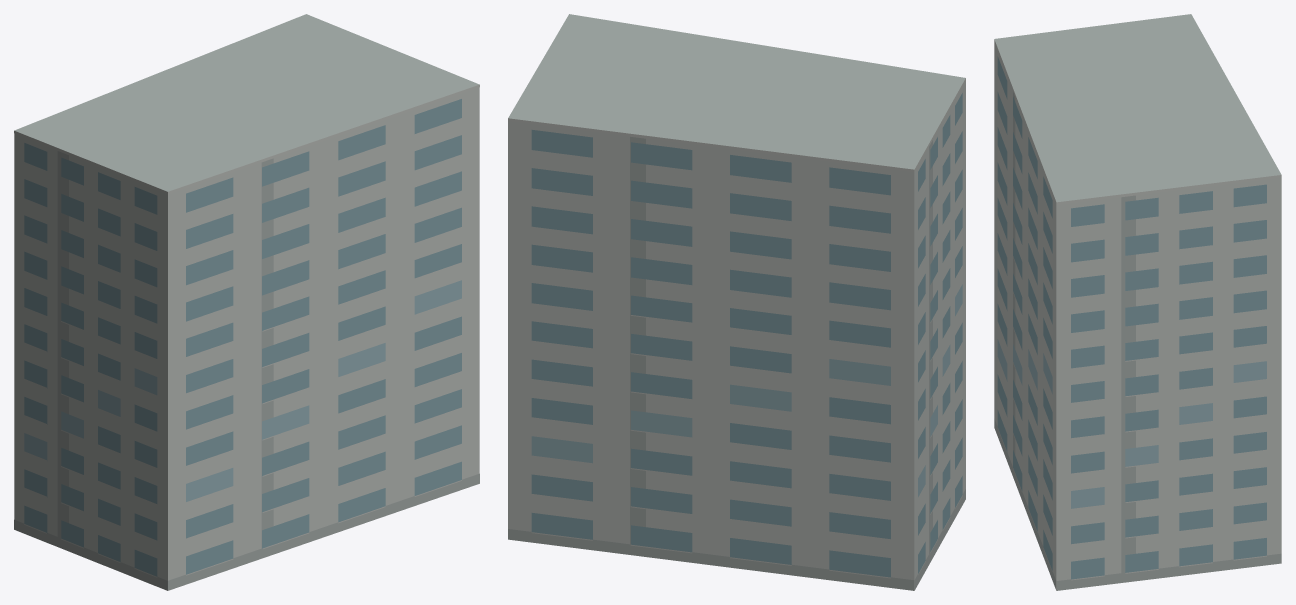
Rendered from residential-7b2d58e0-9783-48bf-9ad5-3c7b8d2ab7bc.glb.
3 views of the same model, side by side, from view 1: azimuth 30°, elevation 25°; view 2: azimuth 150°, elevation 25°; view 3: azimuth 270°, elevation 25° (orthographic). The views are drawn at different scales.
Parts seen in each view (by area): view 1: residential-7b2d58e0-9783-48bf-9ad5-3c7b8d2ab7bc.tmp; view 2: residential-7b2d58e0-9783-48bf-9ad5-3c7b8d2ab7bc.tmp; view 3: residential-7b2d58e0-9783-48bf-9ad5-3c7b8d2ab7bc.tmp.
Part boxes in pixels (x1,y1,x2,y2): residential-7b2d58e0-9783-48bf-9ad5-3c7b8d2ab7bc.tmp: (14,14,479,590); residential-7b2d58e0-9783-48bf-9ad5-3c7b8d2ab7bc.tmp: (508,14,965,590); residential-7b2d58e0-9783-48bf-9ad5-3c7b8d2ab7bc.tmp: (994,14,1281,590).
Size of the model in its own units: 34.88 by 33.55 by 22.5.
